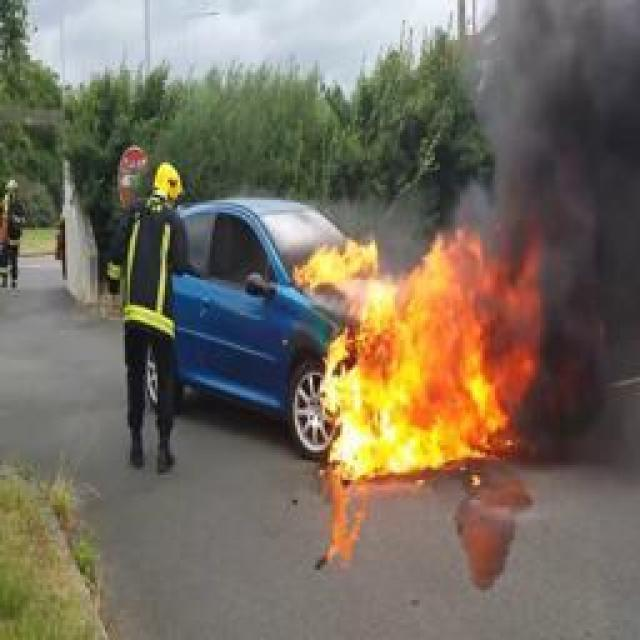Fire: (322, 225, 546, 478), (291, 238, 381, 292)
